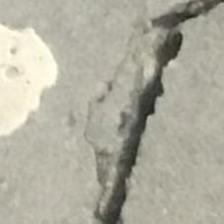Crack: (73, 0, 224, 224)
